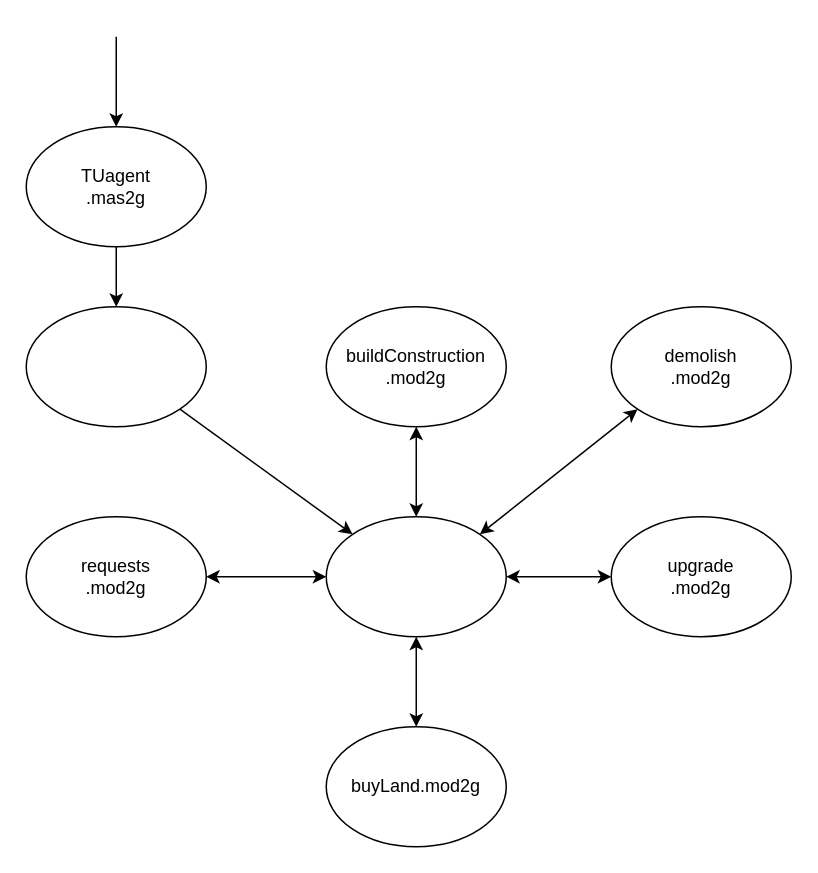
This 818x873 diagram has some shape labels left out. Here are the shapes that lost their labels. From the top down, the box of each, then its label:
(25, 305, 206, 427): tygronInit .mod2g
(325, 515, 506, 637): tygron .mod2g
